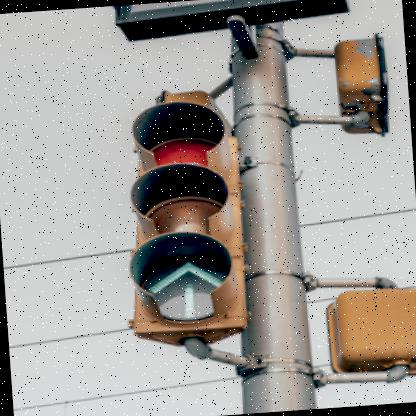trafficlight: (111, 84, 253, 354)
